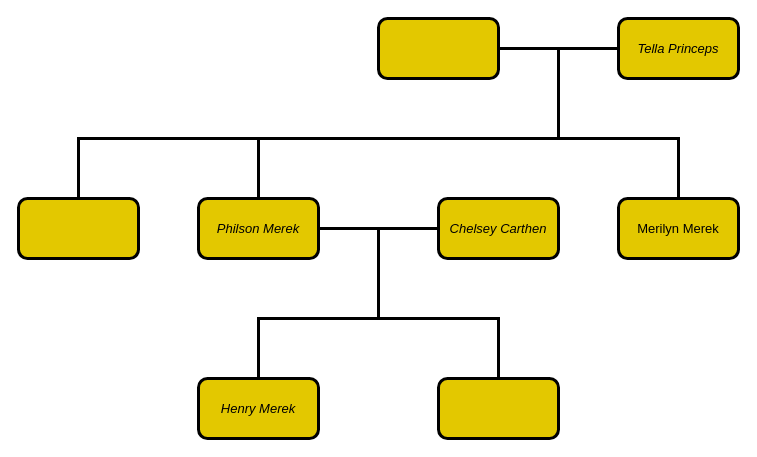
Some shapes in this 757 by 457 pixel diagram are drawn without their labels. The shapes that lost their labels are listed below. From the top down, each one's box as (x1, y1, x2, y2) in pixels, then its label:
(376, 16, 500, 80): Pernos Merek II
(16, 196, 140, 260): Gordon Merek II
(436, 376, 560, 440): Gordon Merek III
